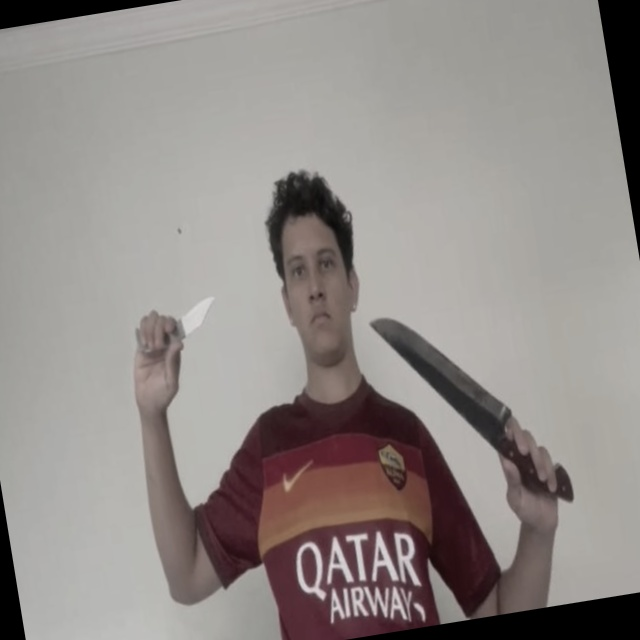Sharp-Object: (366, 297, 513, 445), (178, 293, 221, 335)
